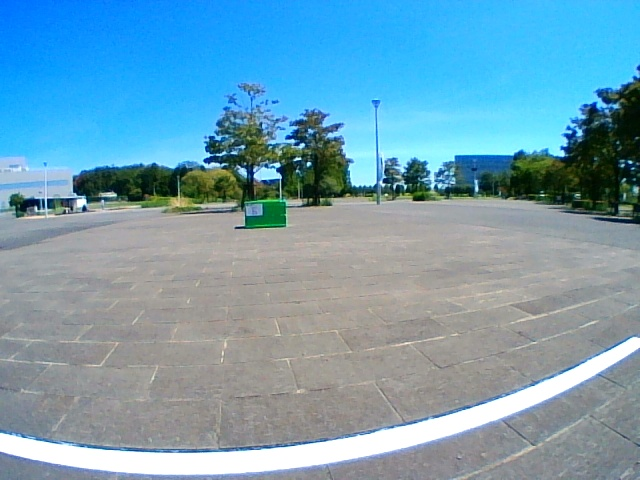green_box: (245, 200, 287, 227)
tag: (245, 204, 261, 215)
